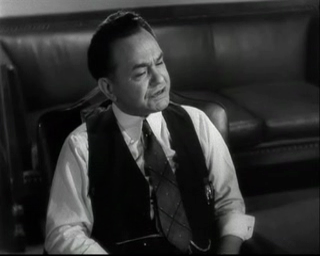face: (123, 49, 171, 113)
ms: (1, 1, 320, 256)
person: (45, 9, 255, 255)
